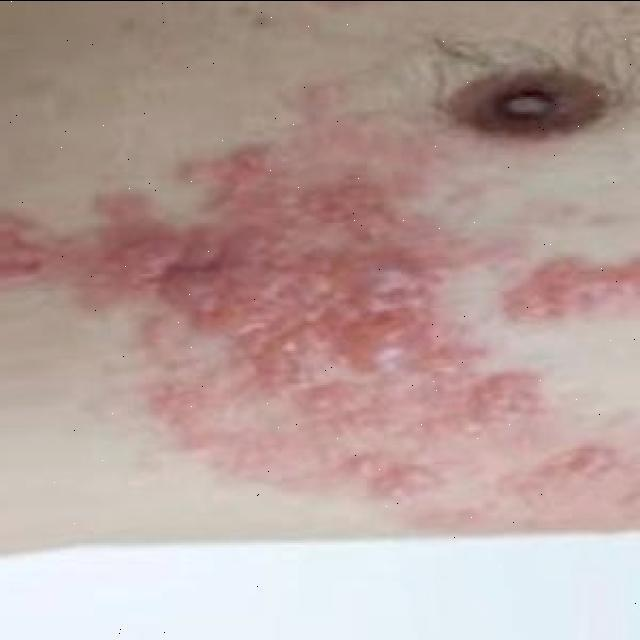Shingles: (0, 135, 634, 510)
